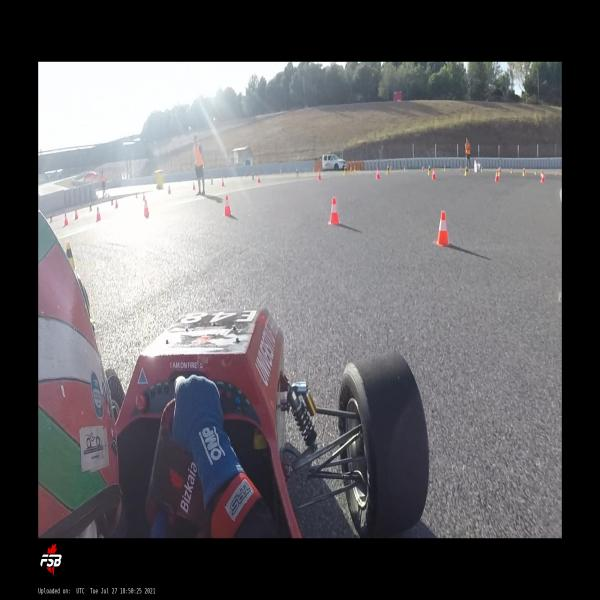orange_cone: (434, 211, 450, 247), (328, 198, 340, 225), (223, 195, 233, 217), (143, 198, 150, 216), (431, 168, 437, 180), (96, 207, 101, 221), (540, 172, 546, 183), (494, 171, 500, 182), (64, 213, 69, 226), (376, 168, 381, 179), (167, 185, 172, 195), (74, 209, 78, 220), (257, 173, 261, 184), (222, 177, 226, 188), (318, 170, 322, 180), (115, 199, 119, 208), (142, 193, 146, 201), (193, 181, 196, 190), (421, 165, 425, 171), (459, 166, 462, 172), (525, 168, 527, 174)
yellow_cone: (66, 241, 77, 271), (464, 167, 468, 177), (498, 168, 502, 177), (428, 166, 432, 175), (386, 166, 390, 175), (343, 166, 347, 175), (296, 169, 300, 178), (522, 168, 526, 176), (352, 164, 356, 172), (89, 203, 93, 211), (210, 178, 214, 185), (50, 214, 53, 223), (252, 172, 255, 181), (443, 165, 446, 172), (510, 168, 513, 174), (403, 166, 406, 172), (111, 199, 113, 206), (136, 192, 138, 198), (540, 170, 542, 176), (534, 170, 536, 175)
